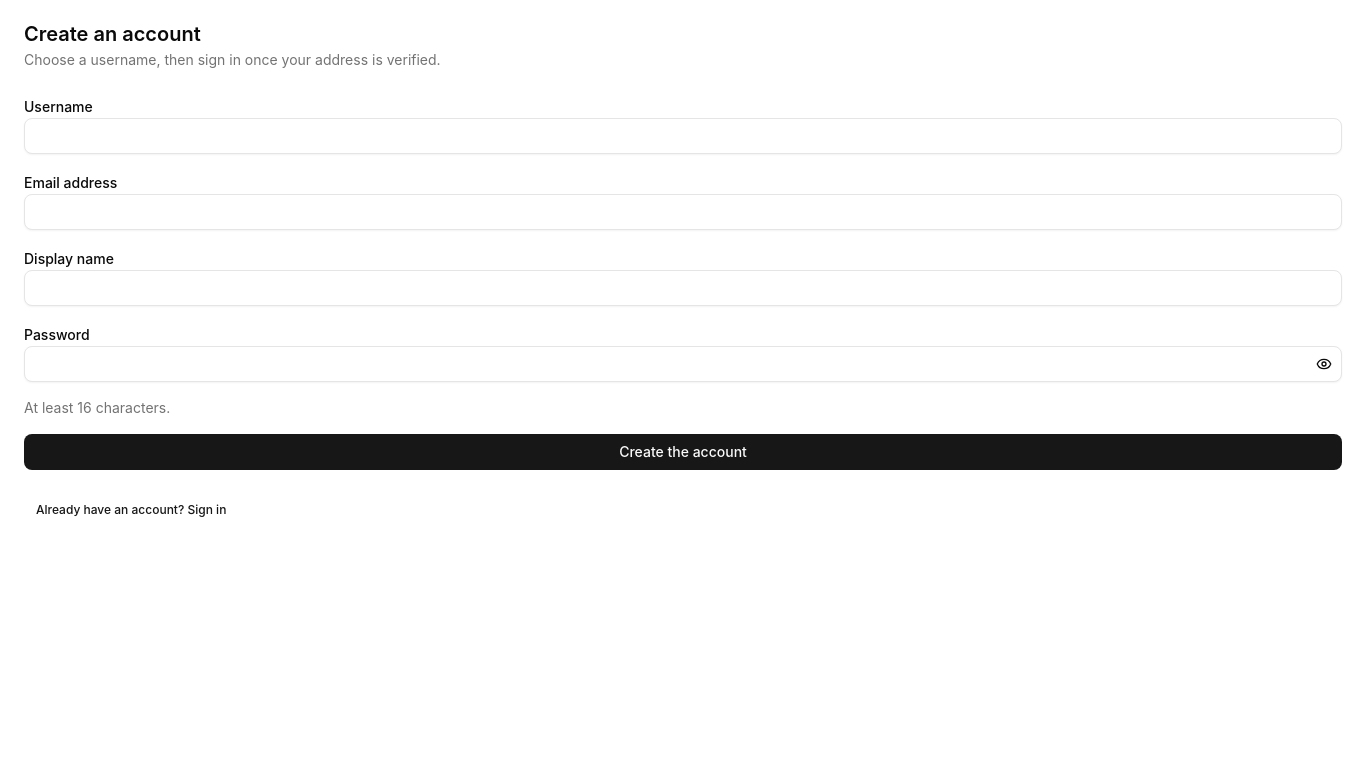
Scenario: applies the minimum password length of the policy
Expected: the text "At least 16 characters." is shown, [24,399,170,416]
Step 1. Type "jane" into the field labelled "Username" → (683, 136), box [24,118,1342,154]
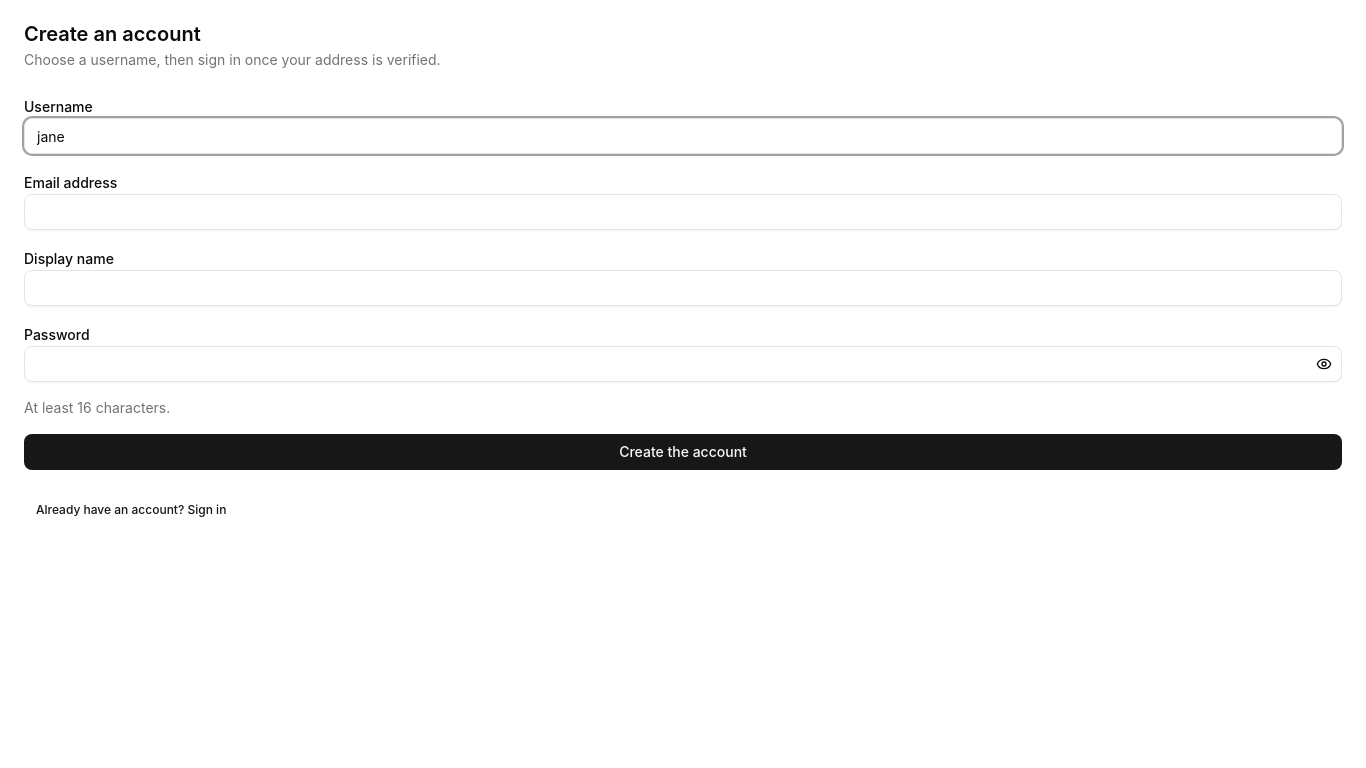
Step 2. Type "jane@example.com" into the field labelled "Email address" → (683, 212), box [24,194,1342,230]
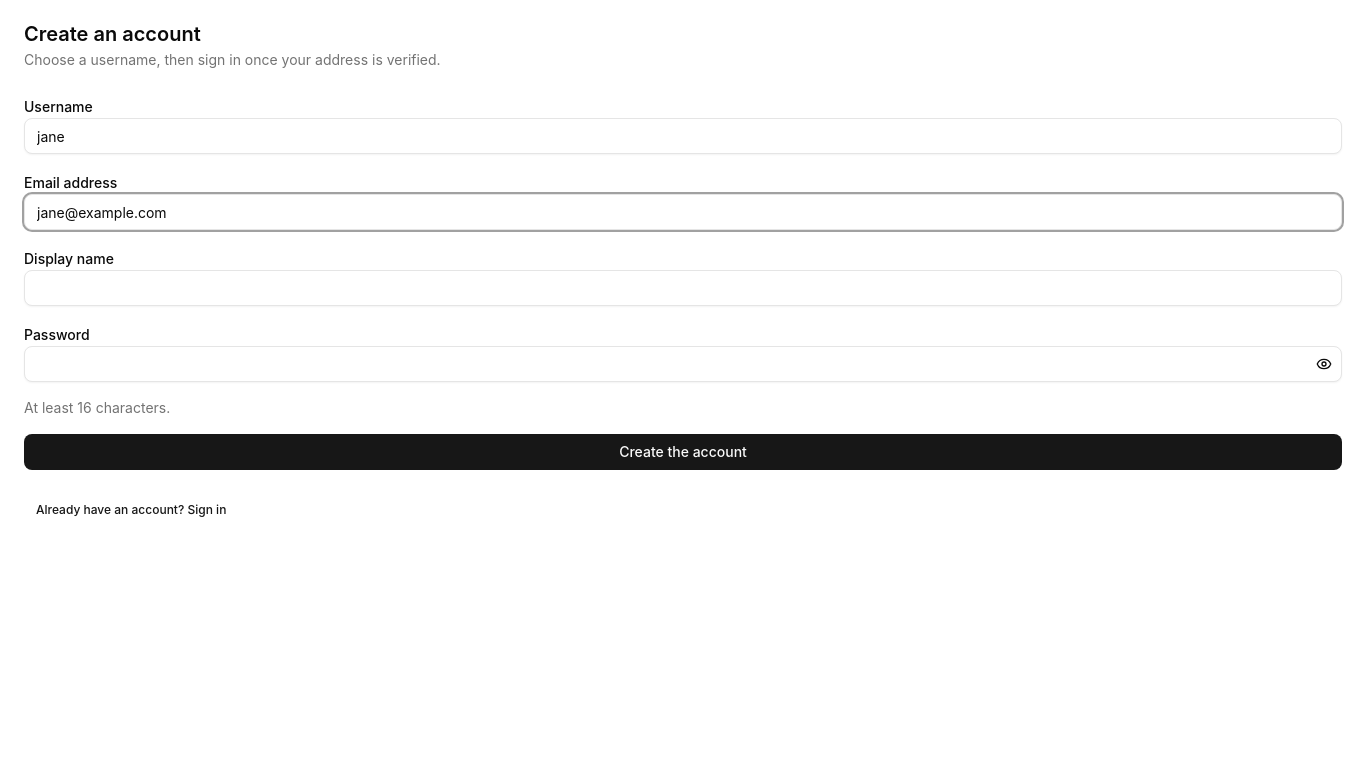
Step 3. Type "Jane Doe" into the field labelled "Display name" → (683, 288), box [24,270,1342,306]
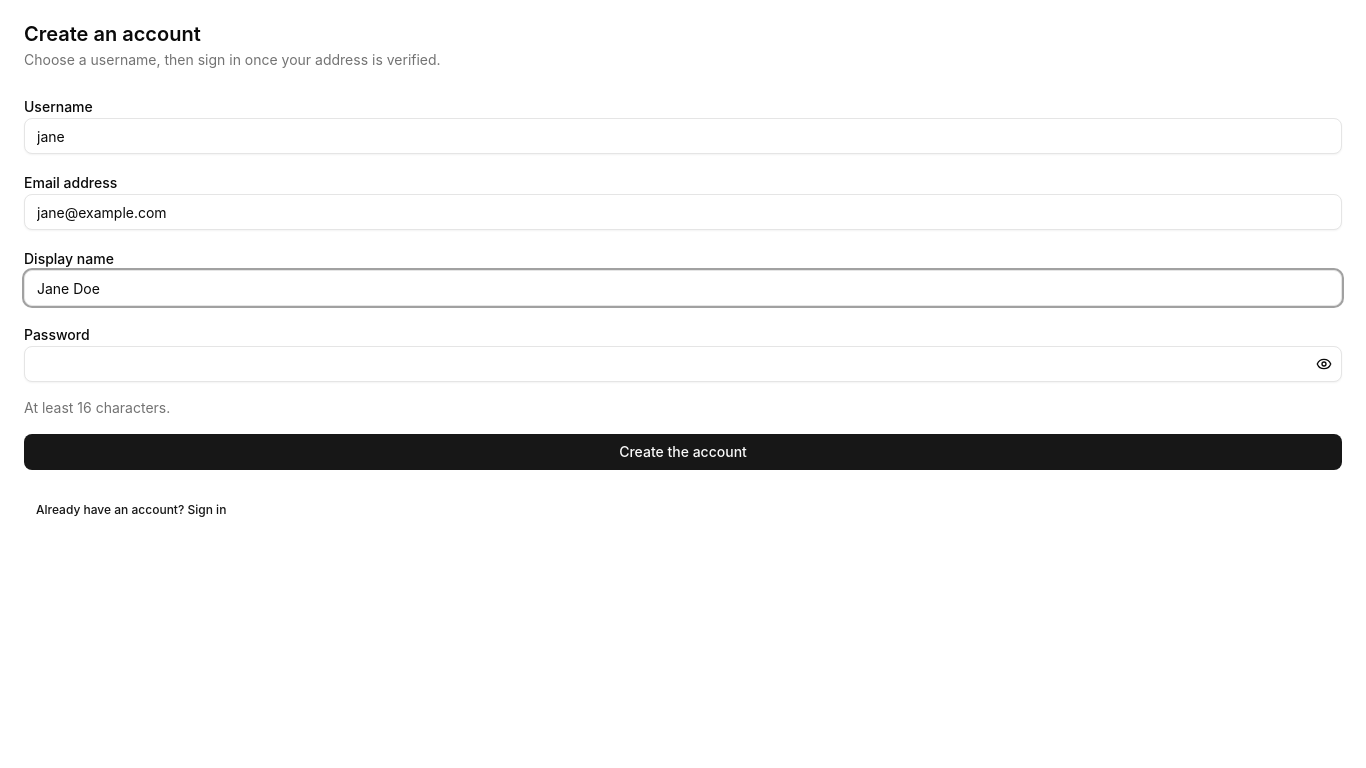
Step 4. Type "fifteen-chars-x" into the password field labelled "Password" → (683, 364), box [24,346,1342,382]
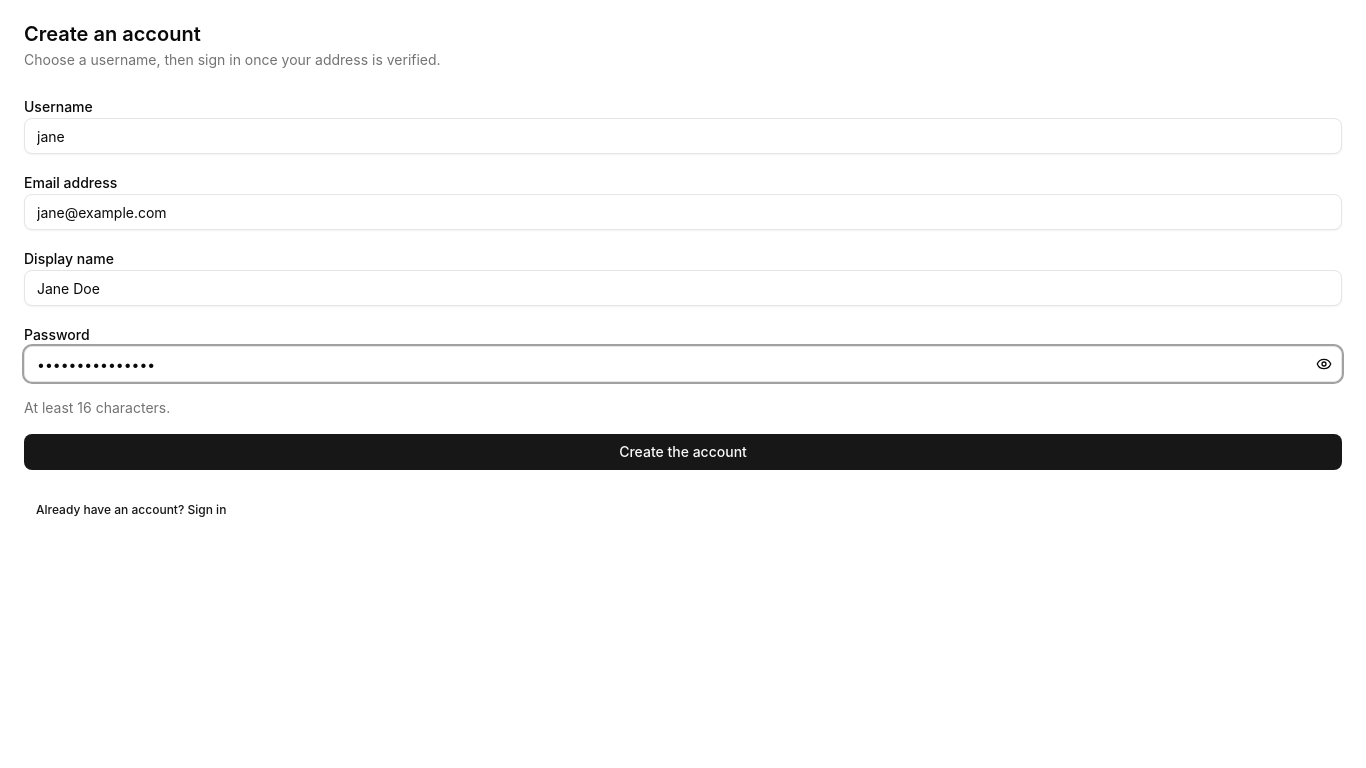
Step 5. Click the button "Create the account" → (683, 452), box [24,434,1342,470]
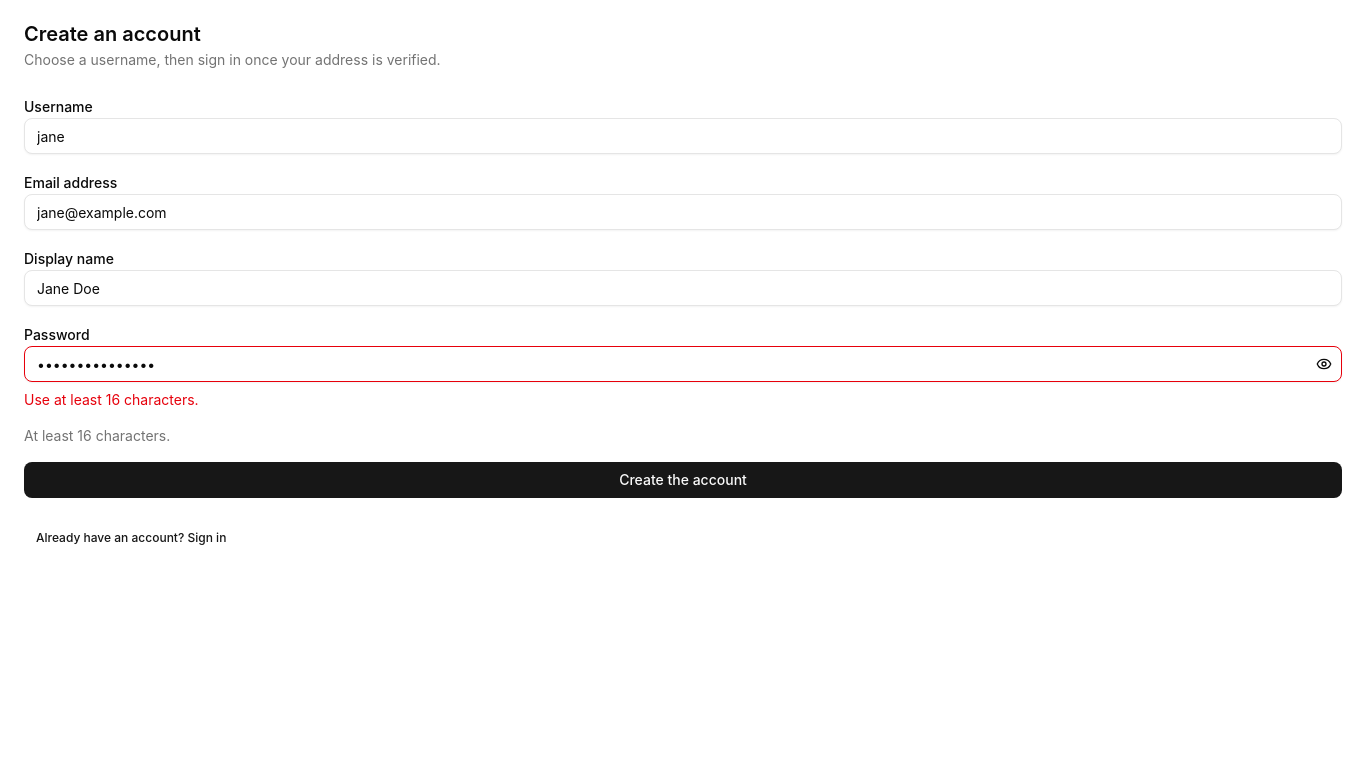
Now the text "Use at least 16 characters." is shown, box [24,391,199,408]
